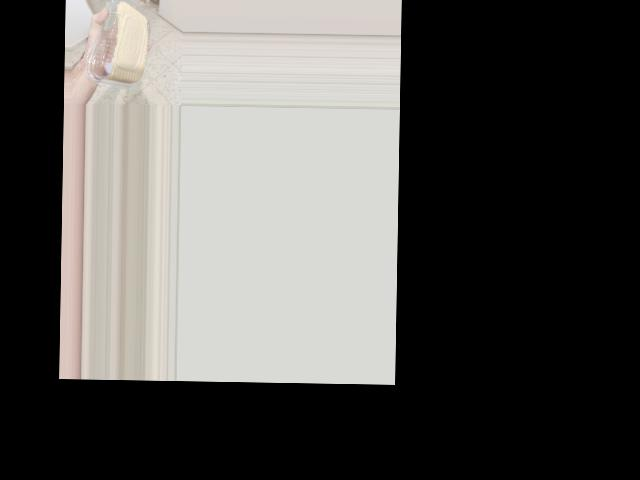cheese: (102, 18, 140, 94)
